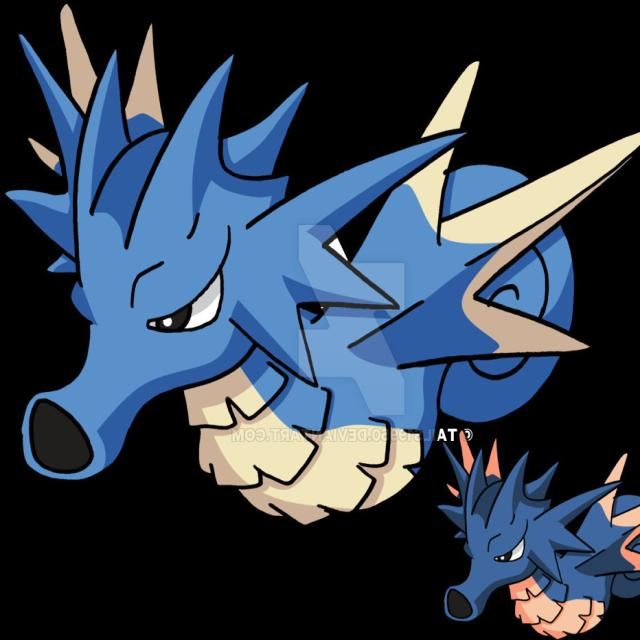Seadra: (0, 65, 612, 475), (416, 450, 640, 623)
